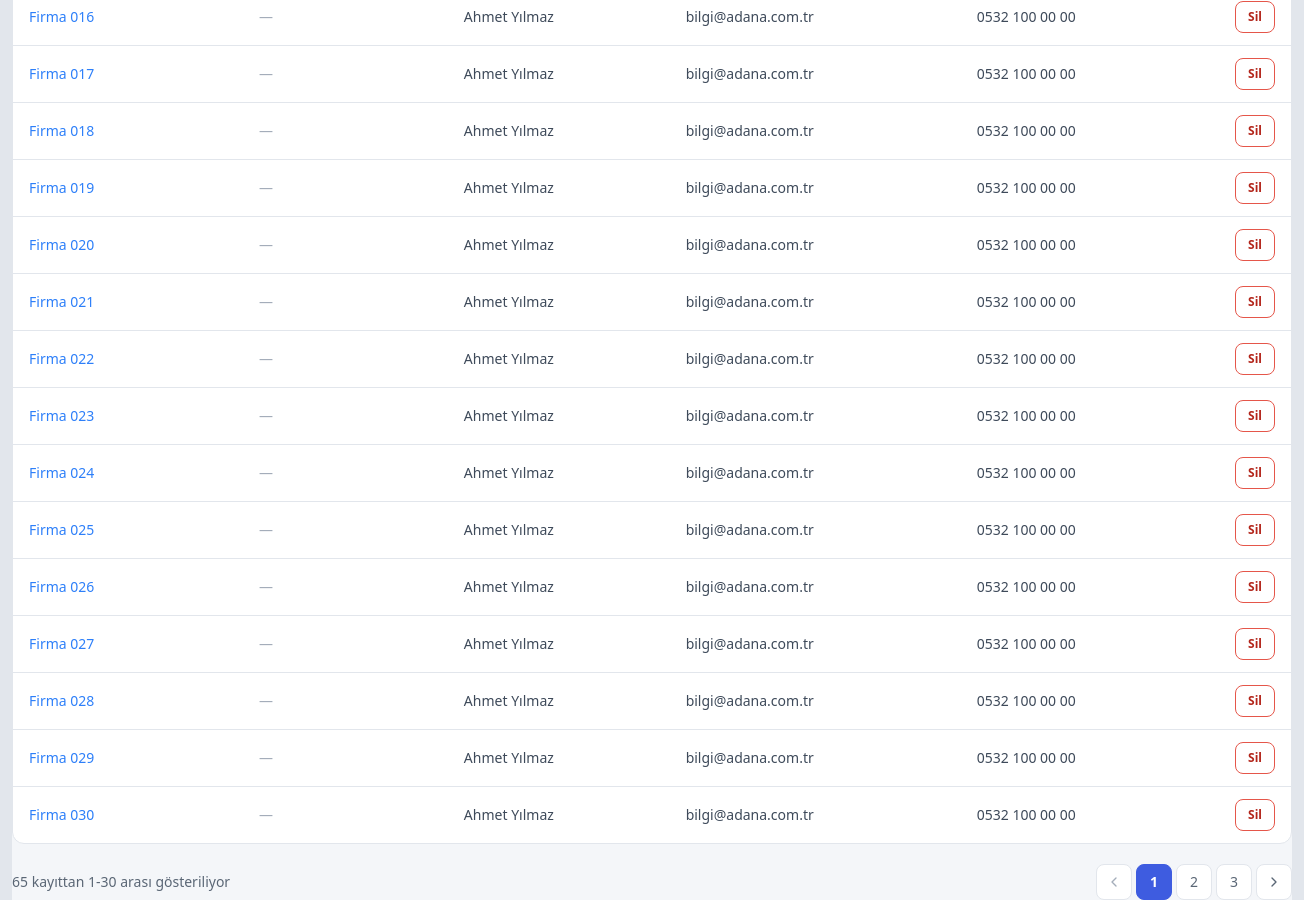
Test: sayfalama › sayfa değişince aralık metni güncellenir
(page scrolled)
Click the button named "Sayfa 2" at point(1194, 882), box [1176,864,1212,899]
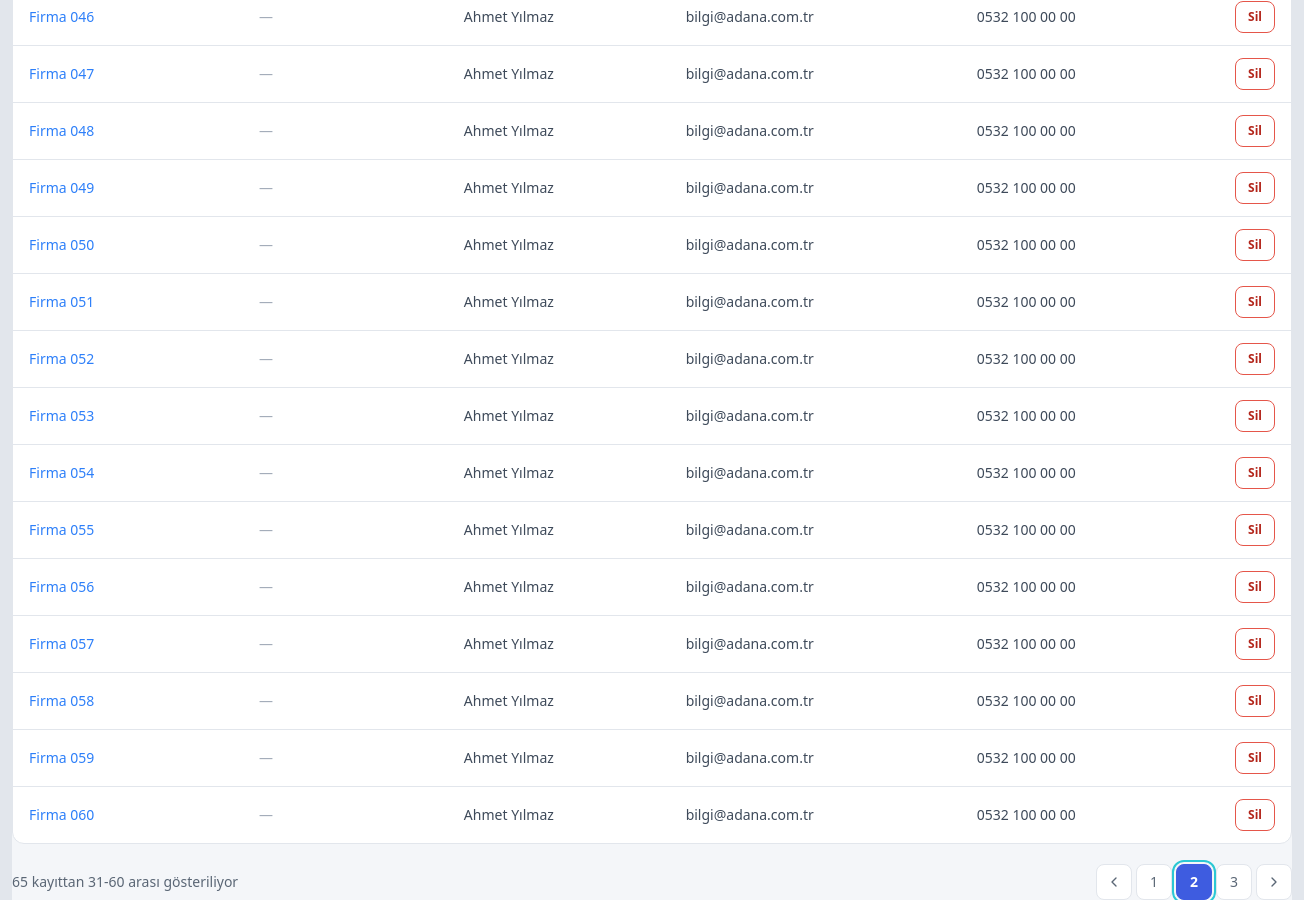
Now the text "65 kayıttan 31-60 arası gösteriliyor" is shown, box [12,872,238,892]
